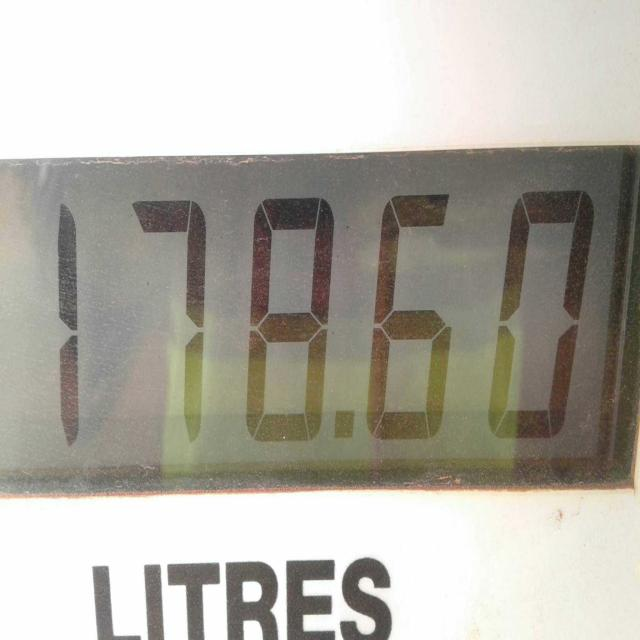.: (319, 385, 366, 467)
0: (483, 185, 608, 465)
1: (32, 192, 110, 458)
6: (358, 178, 464, 459)
7: (122, 180, 233, 456)
8: (232, 172, 334, 463)
